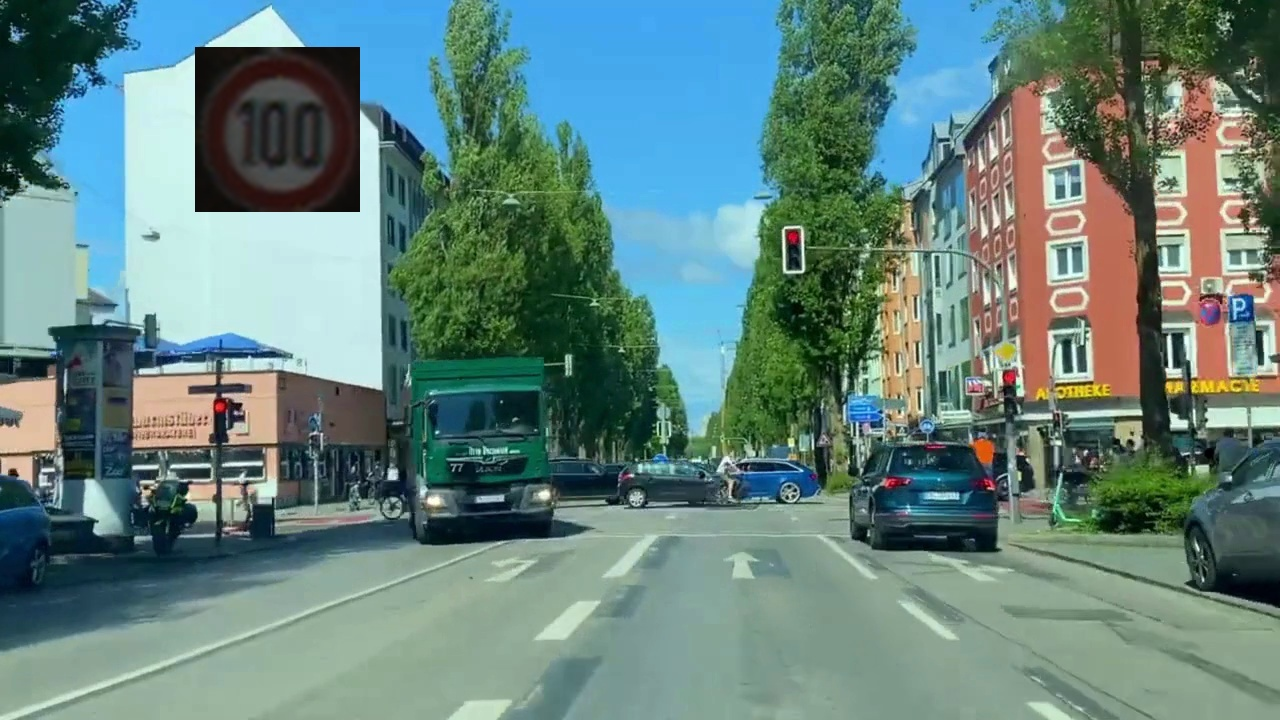Speed 100: (195, 47, 360, 212)
